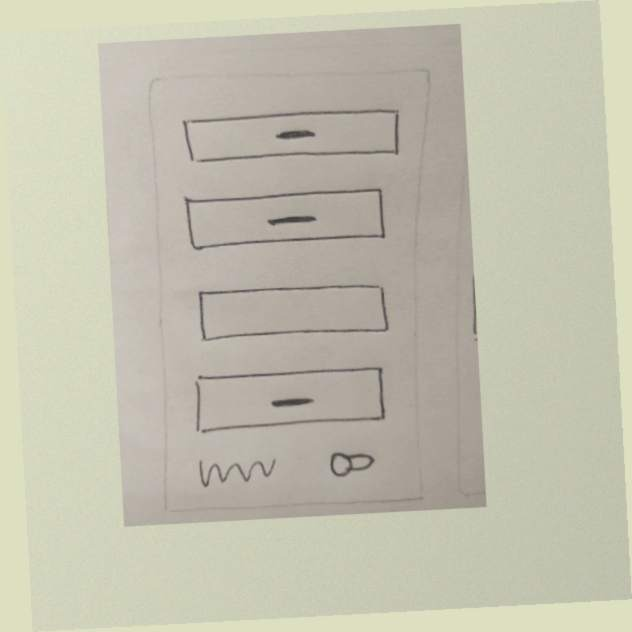button: (178, 100, 407, 180), (188, 360, 391, 445), (177, 183, 393, 258)
switch: (323, 443, 383, 485)
text: (193, 451, 282, 496)
text_input: (186, 273, 399, 354)
